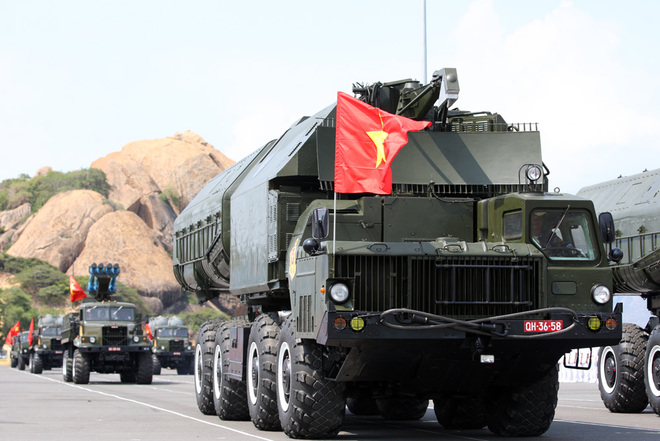plate: (523, 318, 564, 333), (105, 345, 123, 356)
